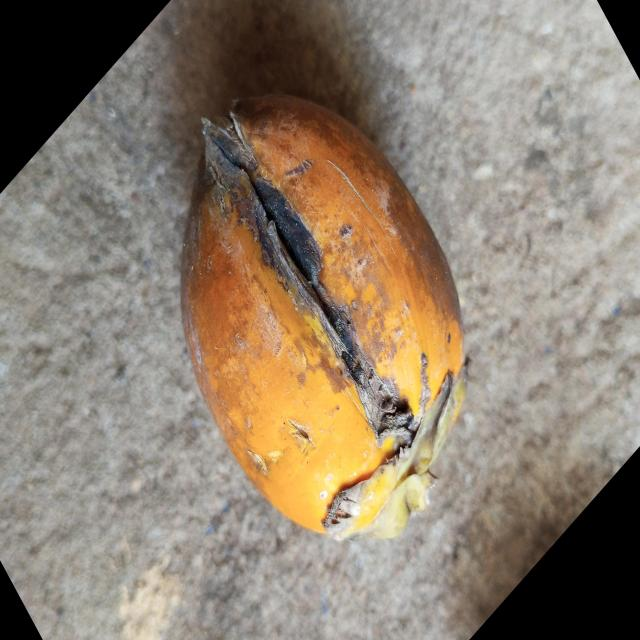damaged: (182, 95, 466, 544)
